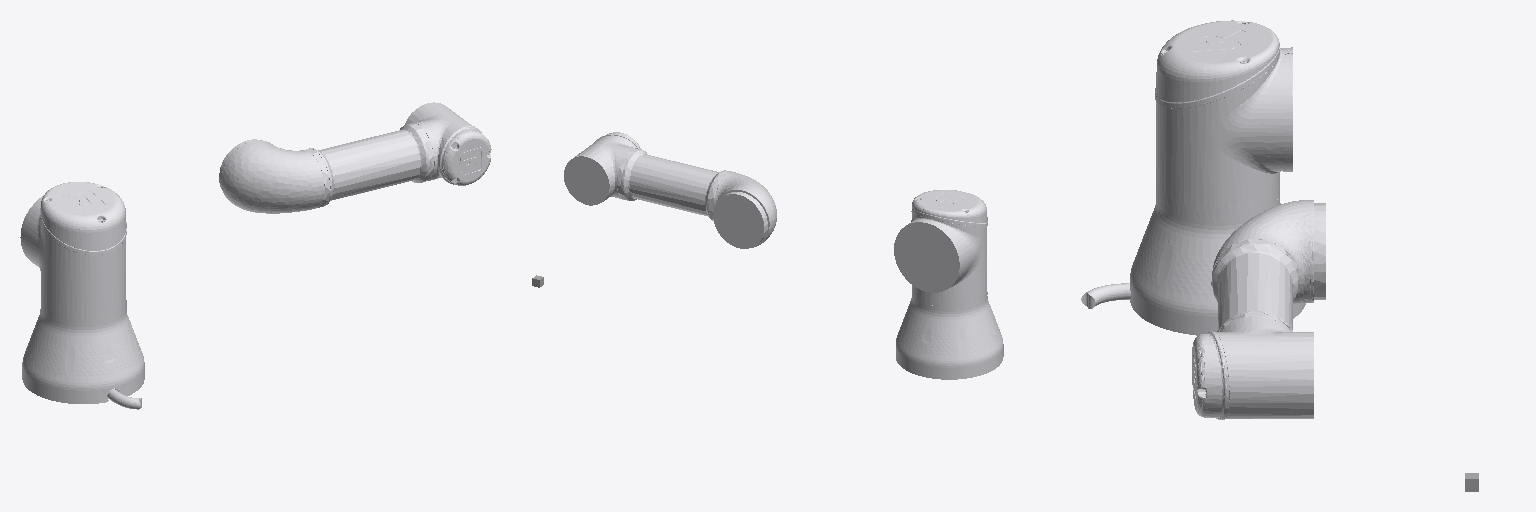
URDF robot description (ur3e):
<?xml version="1.0" encoding="UTF-8"?>
<!-- Universal Robots UR3e URDF -->
<!-- 使用真实 mesh 模型 -->
<robot name="ur3e">

  <!-- 材质定义 -->
  <material name="ur_silver">
    <color rgba="0.9 0.9 0.92 1"/>
  </material>
  
  <material name="ur_grey">
    <color rgba="0.7 0.7 0.8 1"/>
  </material>

  <!-- 基座连杆 -->
  <link name="base_link">
    <inertial>
      <origin xyz="0. 0. 0." rpy="0. 0. 0."/>
      <mass value="2."/>
      <inertia ixx="0." ixy="0." ixz="0." iyy="0." iyz="0." izz="0."/>
    </inertial>
    <visual>
      <origin xyz="0 0 0" rpy="0 0 0"/>
      <geometry>
        <mesh filename="meshes/visual/base.dae"/>
      </geometry>
      <material name="ur_silver"/>
    </visual>
    <collision>
      <origin xyz="0. 0. 0." rpy="0. 0. 0."/>
      <geometry>
        <mesh filename="meshes/collision/base.stl"/>
      </geometry>
    </collision>
  </link>

  <!-- 肩部连杆 -->
  <link name="shoulder_link">
    <inertial>
      <origin xyz="0. 0. 0." rpy="0. 0. 0."/>
      <mass value="2."/>
      <inertia ixx="0." ixy="0." ixz="0." iyy="0." iyz="0." izz="0."/>
    </inertial>
    <visual>
      <origin xyz="0 0 0" rpy="0 0 0"/>
      <geometry>
        <mesh filename="meshes/visual/shoulder.dae"/>
      </geometry>
      <material name="ur_silver"/>
    </visual>
    <collision>
      <origin xyz="0. 0. 0." rpy="0. 0. 0."/>
      <geometry>
        <mesh filename="meshes/collision/shoulder.stl"/>
      </geometry>
    </collision>
  </link>

  <joint name="shoulder_pan_joint" type="revolute">
    <parent link="base_link"/>
    <child link="shoulder_link"/>
    <origin xyz="0. 0. 0.1519" rpy="0. 0. 0."/>
    <axis xyz="0. 0. 1."/>
    <limit lower="-6.2831853" upper="6.2831853" effort="330." velocity="2.1600001"/>
  </joint>

  <!-- 上臂连杆 -->
  <link name="upper_arm_link">
    <inertial>
      <origin xyz="0. 0. 0." rpy="0. 0. 0."/>
      <mass value="3.4200001"/>
      <inertia ixx="0." ixy="0." ixz="0." iyy="0." iyz="0." izz="0."/>
    </inertial>
    <visual>
      <origin xyz="0 0 0" rpy="0 0 0"/>
      <geometry>
        <mesh filename="meshes/visual/upperarm.dae"/>
      </geometry>
      <material name="ur_silver"/>
    </visual>
    <collision>
      <origin xyz="0. 0. 0." rpy="0. 0. 0."/>
      <geometry>
        <mesh filename="meshes/collision/upperarm.stl"/>
      </geometry>
    </collision>
  </link>

  <joint name="shoulder_lift_joint" type="revolute">
    <parent link="shoulder_link"/>
    <child link="upper_arm_link"/>
    <origin xyz="0. 0.1198 0. " rpy="0. 1.5707963 0. "/>
    <axis xyz="0. 1. 0."/>
    <limit lower="-6.2831853" upper="6.2831853" effort="330." velocity="2.1600001"/>
  </joint>

  <!-- 前臂连杆 -->
  <link name="forearm_link">
    <inertial>
      <origin xyz="0. 0. 0." rpy="0. 0. 0."/>
      <mass value="1.26"/>
      <inertia ixx="0." ixy="0." ixz="0." iyy="0." iyz="0." izz="0."/>
    </inertial>
    <visual>
      <origin xyz="0 0 0" rpy="0 0 0"/>
      <geometry>
        <mesh filename="meshes/visual/forearm.dae"/>
      </geometry>
      <material name="ur_silver"/>
    </visual>
    <collision>
      <origin xyz="0. 0. 0." rpy="0. 0. 0."/>
      <geometry>
        <mesh filename="meshes/collision/forearm.stl"/>
      </geometry>
    </collision>
  </link>

  <joint name="elbow_joint" type="revolute">
    <parent link="upper_arm_link"/>
    <child link="forearm_link"/>
    <origin xyz="0. -0.0925 0.24365" rpy="0. 0. 0."/>
    <axis xyz="0. 1. 0."/>
    <limit lower="-6.2831853" upper="3.1415927" effort="150." velocity="3.15"/>
  </joint>

  <!-- 腕部1连杆 -->
  <link name="wrist_1_link">
    <inertial>
      <origin xyz="0. 0. 0." rpy="0. 0. 0."/>
      <mass value="0.8"/>
      <inertia ixx="0." ixy="0." ixz="0." iyy="0." iyz="0." izz="0."/>
    </inertial>
    <visual>
      <origin xyz="0 0 0" rpy="0 0 0"/>
      <geometry>
        <mesh filename="meshes/visual/wrist1.dae"/>
      </geometry>
      <material name="ur_grey"/>
    </visual>
    <collision>
      <origin xyz="0. 0. 0." rpy="0. 0. 0."/>
      <geometry>
        <mesh filename="meshes/collision/wrist1.stl"/>
      </geometry>
    </collision>
  </link>

  <joint name="wrist_1_joint" type="revolute">
    <parent link="forearm_link"/>
    <child link="wrist_1_link"/>
    <origin xyz="0. 0. 0.21325" rpy="0. 1.5707963 0. "/>
    <axis xyz="0. 1. 0."/>
    <limit lower="-6.2831853" upper="6.2831853" effort="54." velocity="3.2"/>
  </joint>

  <!-- 腕部2连杆 -->
  <link name="wrist_2_link">
    <inertial>
      <origin xyz="0. 0. 0." rpy="0. 0. 0."/>
      <mass value="0.8"/>
      <inertia ixx="0." ixy="0." ixz="0." iyy="0." iyz="0." izz="0."/>
    </inertial>
    <visual>
      <origin xyz="0 0 0" rpy="0 0 0"/>
      <geometry>
        <mesh filename="meshes/visual/wrist2.dae"/>
      </geometry>
      <material name="ur_grey"/>
    </visual>
    <collision>
      <origin xyz="0. 0. 0." rpy="0. 0. 0."/>
      <geometry>
        <mesh filename="meshes/collision/wrist2.stl"/>
      </geometry>
    </collision>
  </link>

  <joint name="wrist_2_joint" type="revolute">
    <parent link="wrist_1_link"/>
    <child link="wrist_2_link"/>
    <origin xyz="0. 0.08505 0. " rpy="0. 0. 0."/>
    <axis xyz="0. 0. 1."/>
    <limit lower="-6.2831853" upper="6.2831853" effort="54." velocity="3.2"/>
  </joint>

  <!-- 腕部3连杆（法兰） -->
  <link name="wrist_3_link">
    <inertial>
      <origin xyz="0. 0. 0." rpy="0. 0. 0."/>
      <mass value="0.35"/>
      <inertia ixx="0." ixy="0." ixz="0." iyy="0." iyz="0." izz="0."/>
    </inertial>
    <visual>
      <origin xyz="0 0 0" rpy="0 0 0"/>
      <geometry>
        <mesh filename="meshes/visual/wrist3.dae"/>
      </geometry>
      <material name="ur_silver"/>
    </visual>
    <collision>
      <origin xyz="0. 0. 0." rpy="0. 0. 0."/>
      <geometry>
        <mesh filename="meshes/collision/wrist3.stl"/>
      </geometry>
    </collision>
  </link>

  <joint name="wrist_3_joint" type="revolute">
    <parent link="wrist_2_link"/>
    <child link="wrist_3_link"/>
    <origin xyz="0. 0. 0.08535" rpy="0. 0. 0."/>
    <axis xyz="0. 1. 0."/>
    <limit lower="-6.2831853" upper="6.2831853" effort="54." velocity="3.2"/>
  </joint>


  <joint name="ee_fixed_joint" type="fixed">
    <parent link="wrist_3_link"/>
    <child link="ee_link"/>
    <origin xyz="0. 0.0819 0. " rpy="0. 0. 1.5707964"/>
  </joint>


    <!-- 末端执行器参考点 -->
  <link name="ee_link">
    <inertial>
      <origin xyz="0. 0. 0." rpy="0. 0. 0."/>
      <mass value="0.000001"/>
      <inertia ixx="0." ixy="0." ixz="0." iyy="0." iyz="0." izz="0."/>
    </inertial>
    <visual>
      <origin xyz="-0.01 0. 0. " rpy="0. 0. 0."/>
      <geometry>
        <box size="0.01 0.01 0.01"/>
      </geometry>
    </visual>
    <collision>
      <origin xyz="-0.01 0. 0. " rpy="0. 0. 0."/>
      <geometry>
        <box size="0.01 0.01 0.01"/>
      </geometry>
    </collision>
  </link>

</robot>

--- What the picture shows (computed from the rendered views, not written in the file) ---
Views: 3 orthographic renders of the robot side by side, from view 1: azimuth 30°, elevation 25°; view 2: azimuth 150°, elevation 25°; view 3: azimuth 270°, elevation 25°.
Model ur3e with 8 links and 7 joints (6 revolute, 1 fixed), rooted at base_link, posed every joint at zero.
Links seen in each view (by area): view 1: forearm_link, shoulder_link, base_link; view 2: forearm_link, shoulder_link, base_link; view 3: shoulder_link, forearm_link, base_link.
Boxes of the visible links, bbox=[...] form: forearm_link: bbox=[219, 102, 491, 213]; shoulder_link: bbox=[20, 182, 126, 321]; base_link: bbox=[22, 304, 144, 409]; forearm_link: bbox=[564, 132, 776, 248]; shoulder_link: bbox=[894, 190, 987, 306]; base_link: bbox=[896, 292, 1003, 379]; shoulder_link: bbox=[1155, 20, 1292, 217]; forearm_link: bbox=[1192, 200, 1325, 419]; base_link: bbox=[1081, 195, 1305, 335].
Size in the robot's own frame: 0.553 by 0.2887 by 0.2097 metres.
3 mesh visuals loaded from 7 distinct referenced files (3 Collada DAE); not drawn: 4 (reference not matched to a file when rendering).
